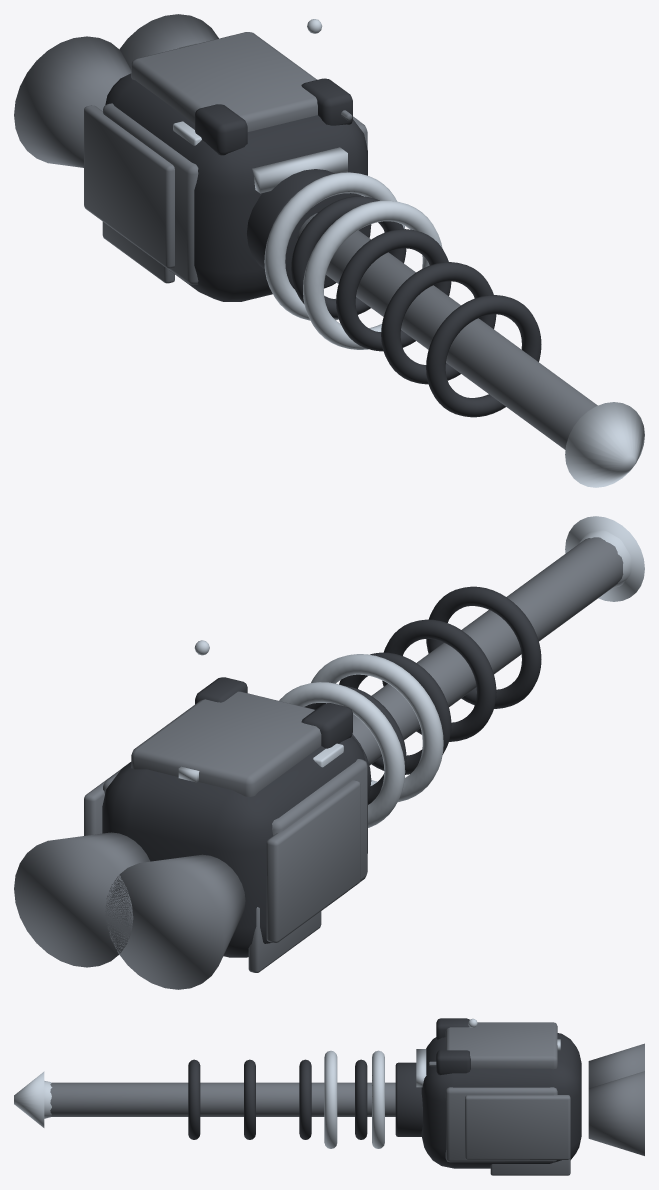
Rendered from weapon_drone_zeus_lance.glb.
3 renders of one model, top to bottom at view 1: azimuth 30°, elevation 25°; view 2: azimuth 150°, elevation 25°; view 3: azimuth 270°, elevation 25°, orthographic. The views are drawn at different scales.
Parts seen in each view (by area): view 1: weapon_drone_zeus_lance; view 2: weapon_drone_zeus_lance; view 3: weapon_drone_zeus_lance.
Boxes of the visible parts, x1,y1,x2,y2 form: weapon_drone_zeus_lance: (14,14,644,487); weapon_drone_zeus_lance: (14,516,644,989); weapon_drone_zeus_lance: (14,1018,644,1175).
Bounding box in the file's own units: 0.696 × 0.7692 × 2.92.
